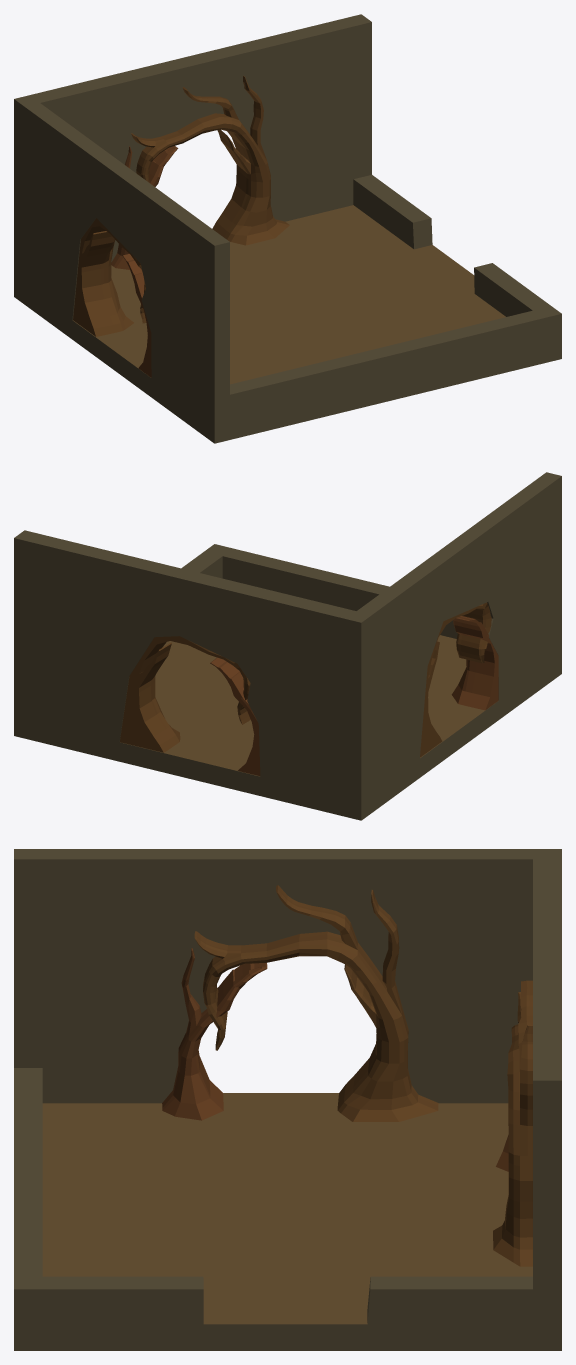
Rendered from salaPequeñaDosPuertasNaturaleza.fbx.
The picture shows the model from 3 angles, top to bottom: view 1: azimuth 30°, elevation 25°; view 2: azimuth 150°, elevation 25°; view 3: azimuth 270°, elevation 25°; orthographic projection. The views are drawn at different scales.
Visible parts, largest first — view 1: Cubo.035, Cubo.038, Cubo.036, Cubo.037, ARBOL.019, ARBOL.020; view 2: Cubo.035, Cubo.038, Cubo.036, ARBOL.020, Cubo.037, ARBOL.019; view 3: Cubo.035, Cubo.038, Cubo.037, Cubo.036, ARBOL.020.
Part boxes in pixels (left/top/right/bottom): Cubo.035: left=14, top=14, right=561, bottom=443; Cubo.038: left=73, top=205, right=505, bottom=384; Cubo.036: left=131, top=76, right=289, bottom=245; Cubo.037: left=73, top=218, right=146, bottom=336; ARBOL.019: left=111, top=146, right=178, bottom=269; ARBOL.020: left=122, top=254, right=151, bottom=377; Cubo.035: left=14, top=472, right=561, bottom=820; Cubo.038: left=120, top=635, right=494, bottom=776; Cubo.036: left=120, top=636, right=250, bottom=752; ARBOL.020: left=451, top=616, right=498, bottom=710; Cubo.037: left=420, top=602, right=491, bottom=757; ARBOL.019: left=210, top=657, right=260, bottom=775; Cubo.035: left=14, top=849, right=561, bottom=1350; Cubo.038: left=42, top=1093, right=532, bottom=1324; Cubo.037: left=194, top=885, right=438, bottom=1121; Cubo.036: left=493, top=980, right=532, bottom=1266; ARBOL.020: left=162, top=948, right=267, bottom=1120.
Bounding box in the file's own units: 1120 × 610 × 1120.
